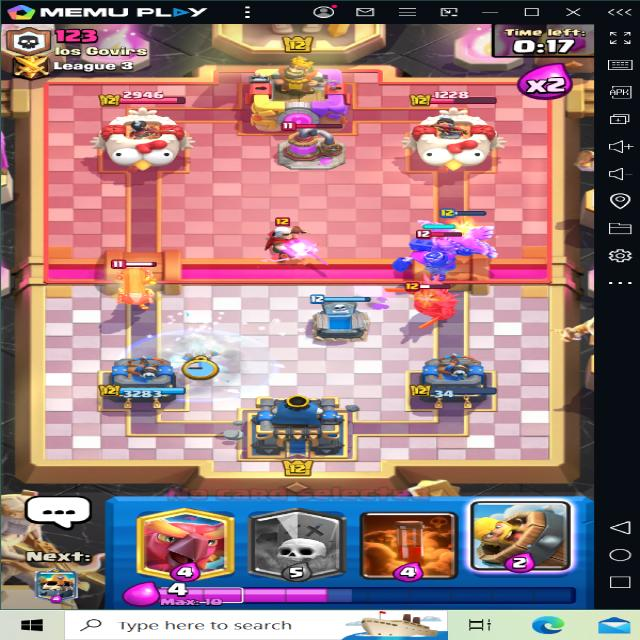battle-ram: (76, 258, 175, 305)
magic-archer: (250, 214, 312, 262)
pekka: (407, 282, 465, 323)
skeleton-king: (398, 234, 462, 279)
